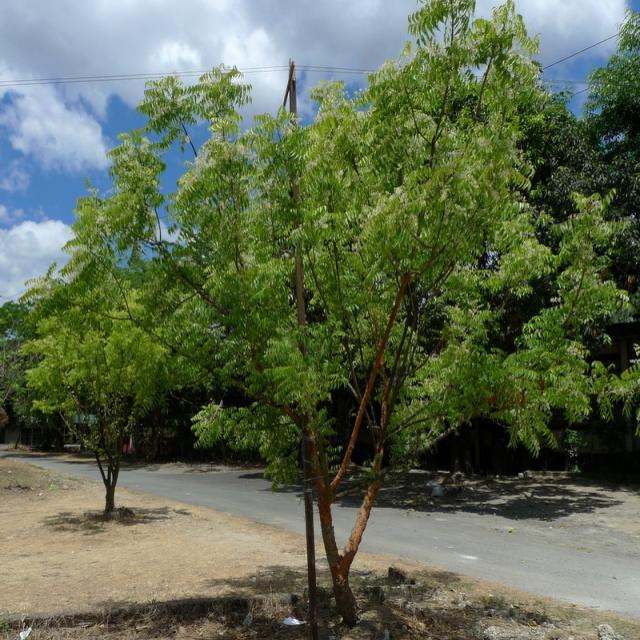Medicinal-Neem: (142, 73, 397, 292), (406, 7, 545, 296), (410, 312, 634, 473), (16, 284, 178, 407), (214, 294, 347, 411)
